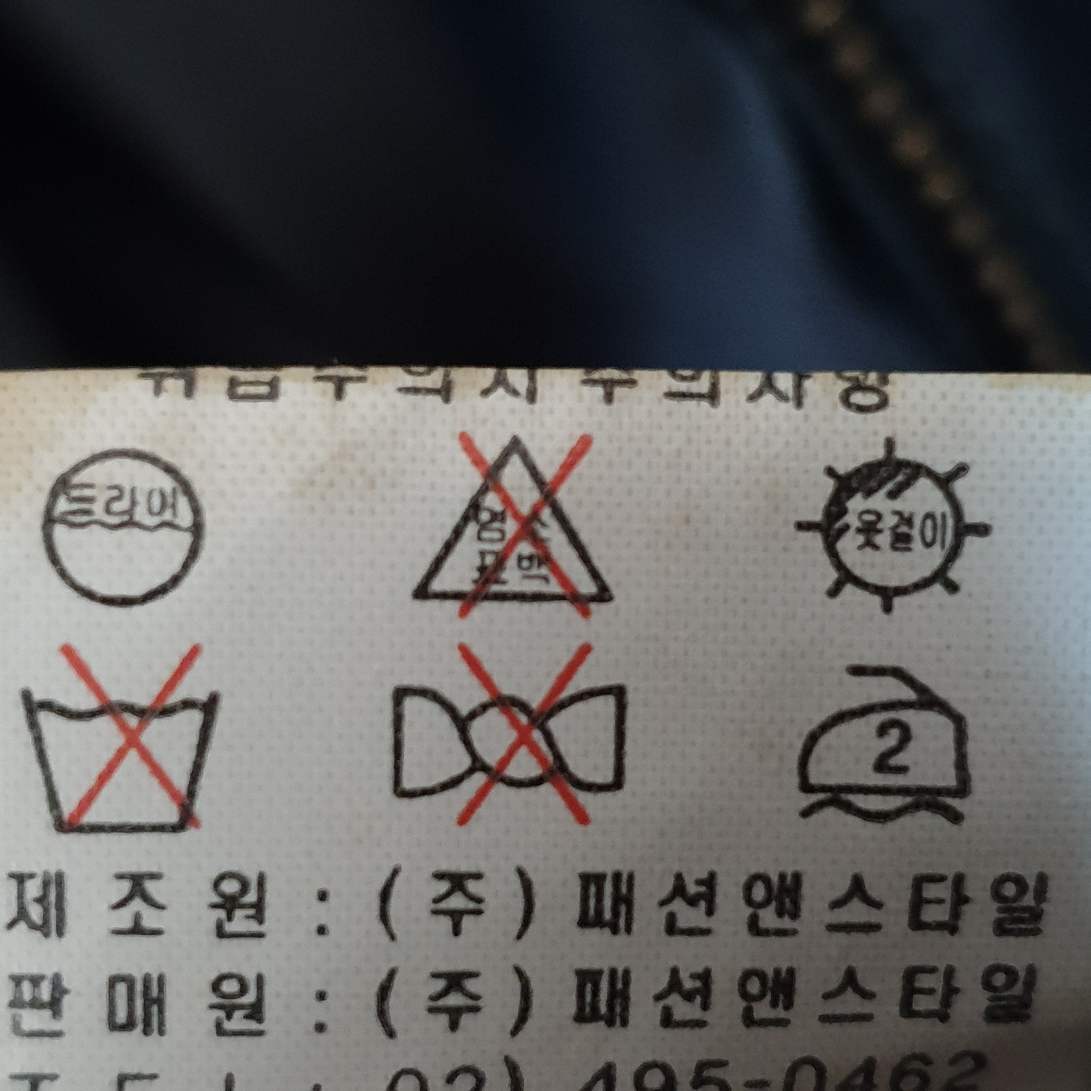KR_dry_clean: (23, 439, 220, 620)
KR_hang_dry_in_shade: (792, 431, 989, 619)
KR_iron_medium_temp_with_cloth: (789, 637, 992, 838)
KR_no_chlorine_bleach: (390, 422, 628, 632)
KR_no_wash: (17, 646, 223, 847)
KR_no_wring: (377, 641, 637, 825)
